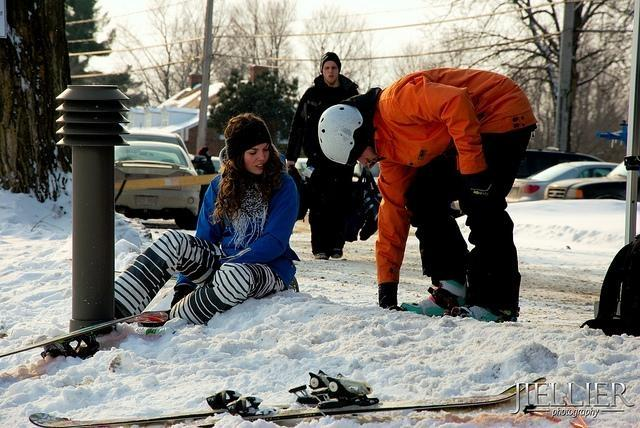car: (114, 140, 202, 230), (544, 154, 629, 197), (517, 147, 606, 180), (528, 161, 618, 181)
